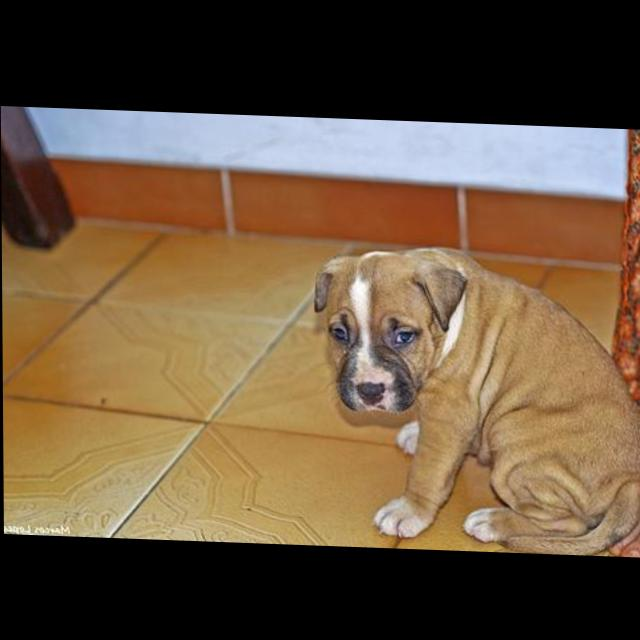amstaff: (314, 240, 640, 554)
